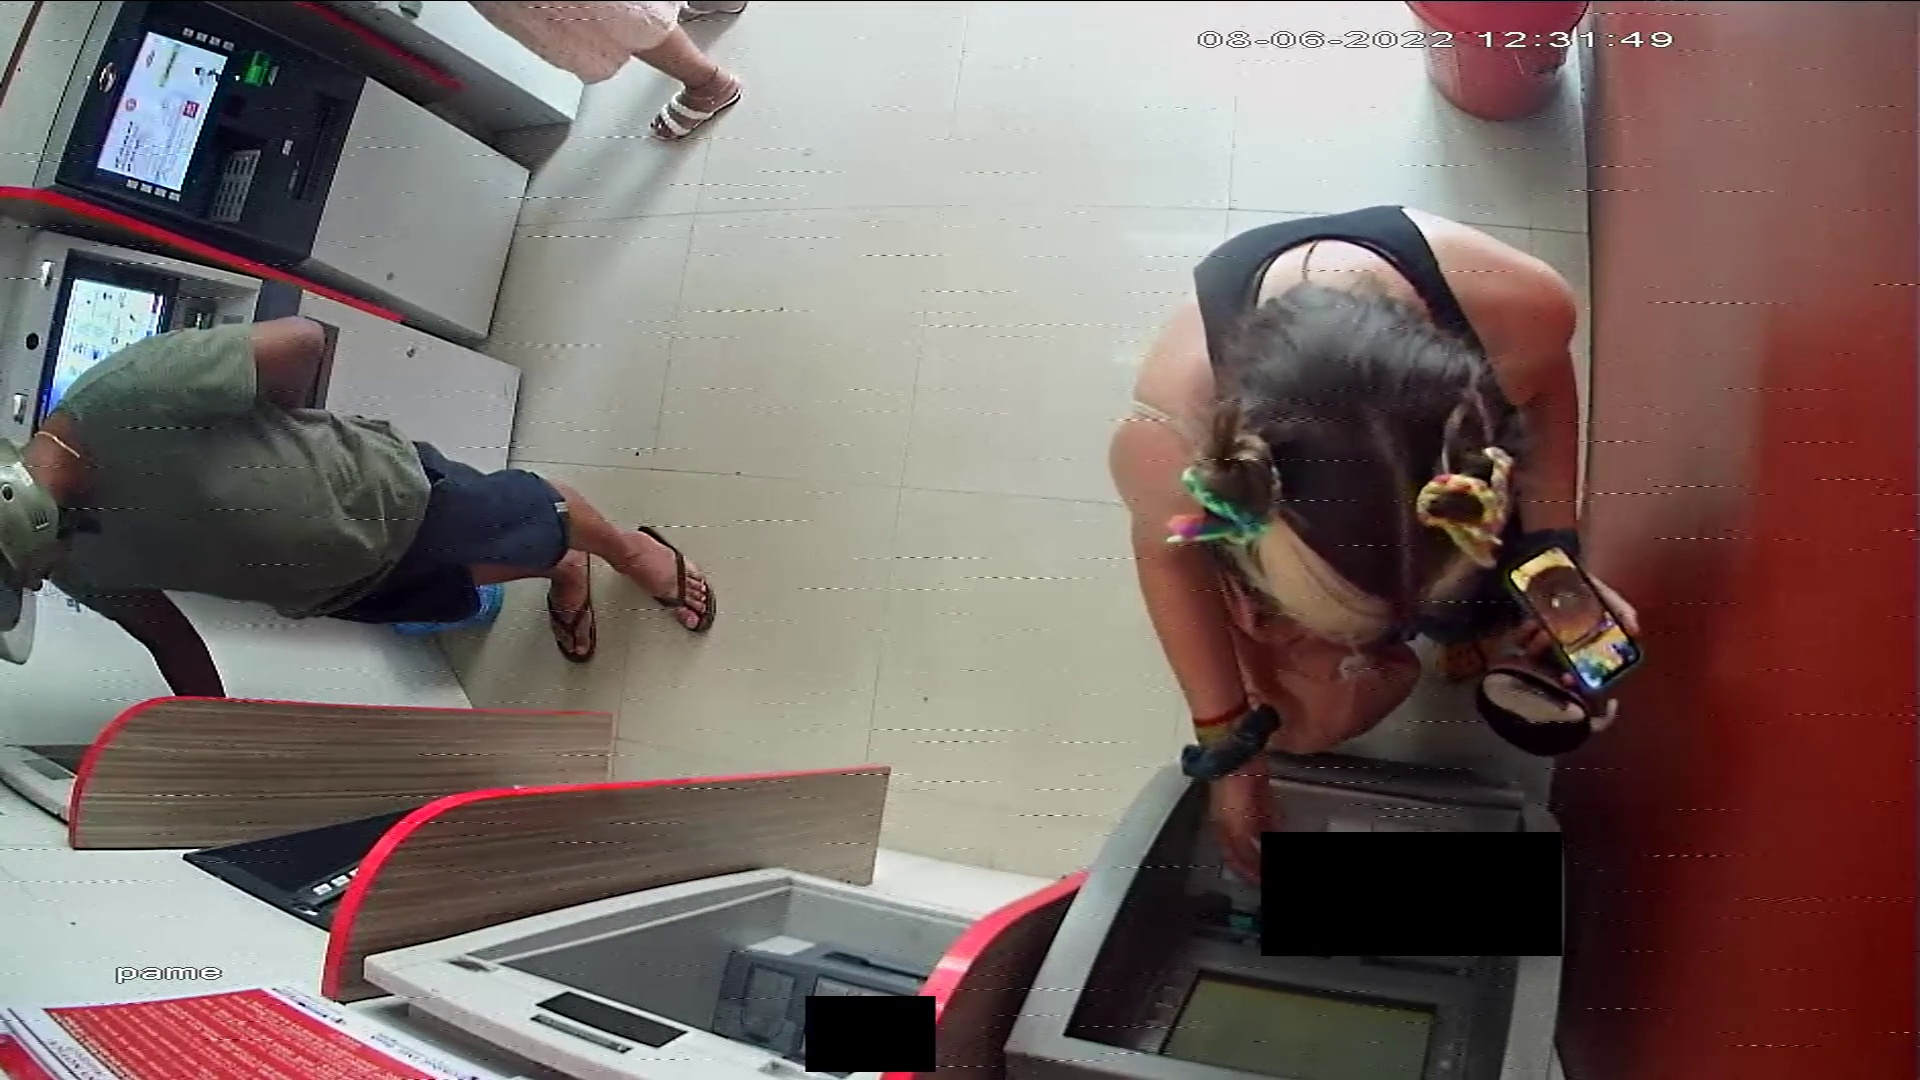helmet: (1, 440, 71, 669)
person: (1106, 194, 1637, 847), (1, 317, 716, 701)
phone: (1509, 545, 1644, 686), (1507, 543, 1642, 684)
